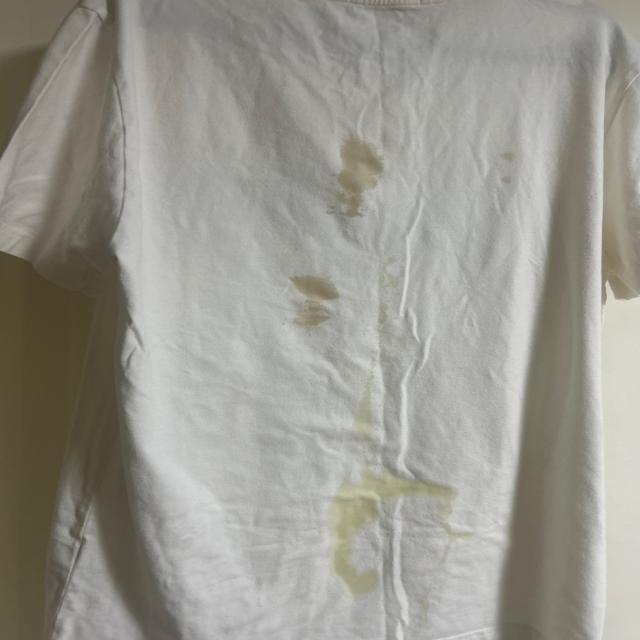stain: (294, 457, 475, 603), (326, 137, 386, 223), (284, 260, 344, 333), (485, 142, 545, 204), (341, 371, 388, 444)
